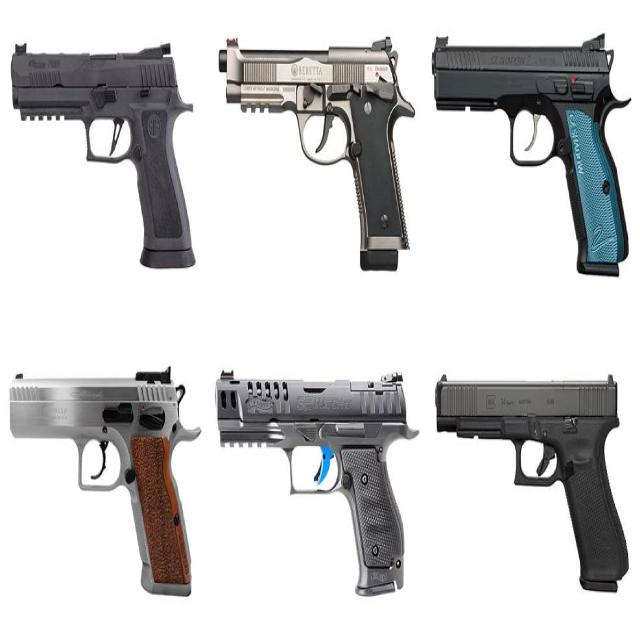HandGun: (432, 35, 632, 278), (215, 371, 421, 599), (219, 37, 418, 273), (10, 368, 203, 601), (434, 375, 630, 595), (12, 44, 198, 272)
